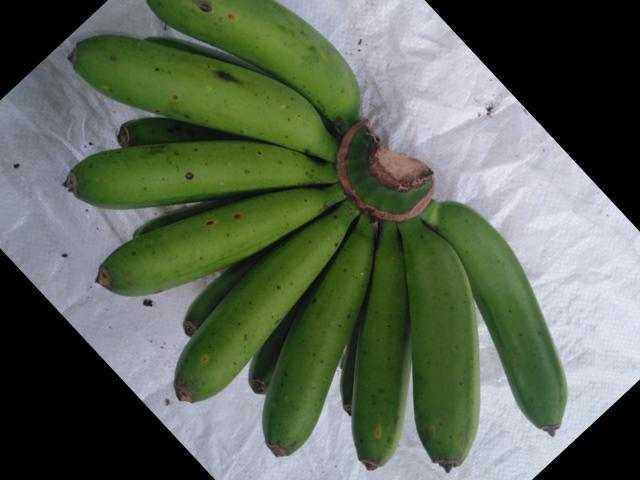unripe: (58, 12, 335, 153), (428, 186, 562, 456), (98, 192, 396, 289), (378, 241, 487, 473), (26, 128, 325, 205), (156, 0, 370, 104)
